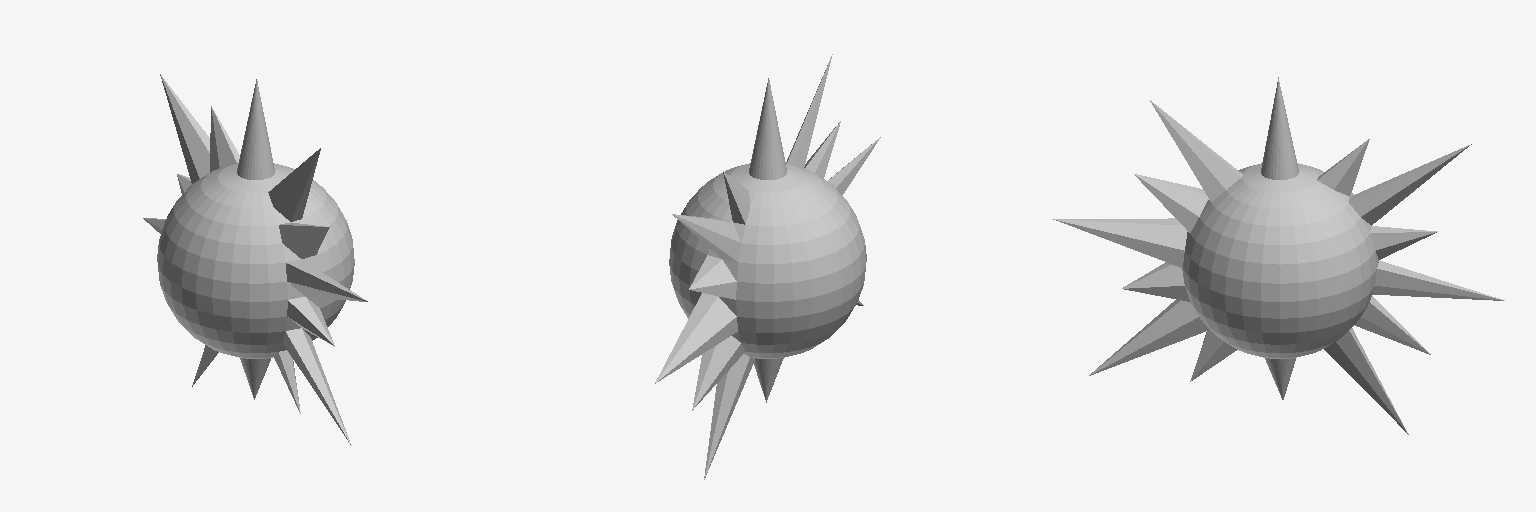
The model's file is sphere_spike.obj.
The picture shows the model from 3 angles: view 1: azimuth 30°, elevation 25°; view 2: azimuth 150°, elevation 25°; view 3: azimuth 270°, elevation 25°; orthographic projection.
Visible parts, largest first — view 1: Sphere; view 2: Sphere; view 3: Sphere.
Boxes of the visible parts, x1,y1,x2,y2 form: Sphere: [143, 74, 367, 445]; Sphere: [655, 54, 880, 479]; Sphere: [1053, 77, 1504, 434].
Size of the model in its own units: 2 by 3.98 by 4.59.